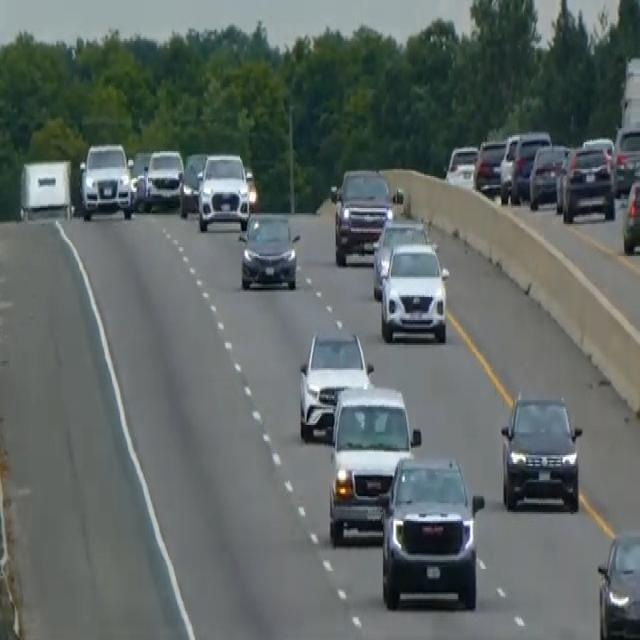car: (499, 389, 583, 512), (297, 325, 373, 443), (379, 238, 449, 343), (329, 165, 394, 265), (239, 210, 300, 290), (595, 528, 639, 638), (371, 215, 427, 299), (558, 142, 615, 222), (197, 149, 250, 231), (499, 128, 550, 204), (528, 142, 568, 210), (145, 148, 183, 208), (611, 122, 639, 196), (472, 137, 507, 195), (179, 149, 208, 217), (444, 142, 478, 187), (127, 149, 151, 210), (621, 174, 639, 254)
jeep: (378, 448, 485, 612), (78, 140, 133, 220)
lorry: (18, 157, 73, 220)
minivan: (327, 382, 420, 546)
